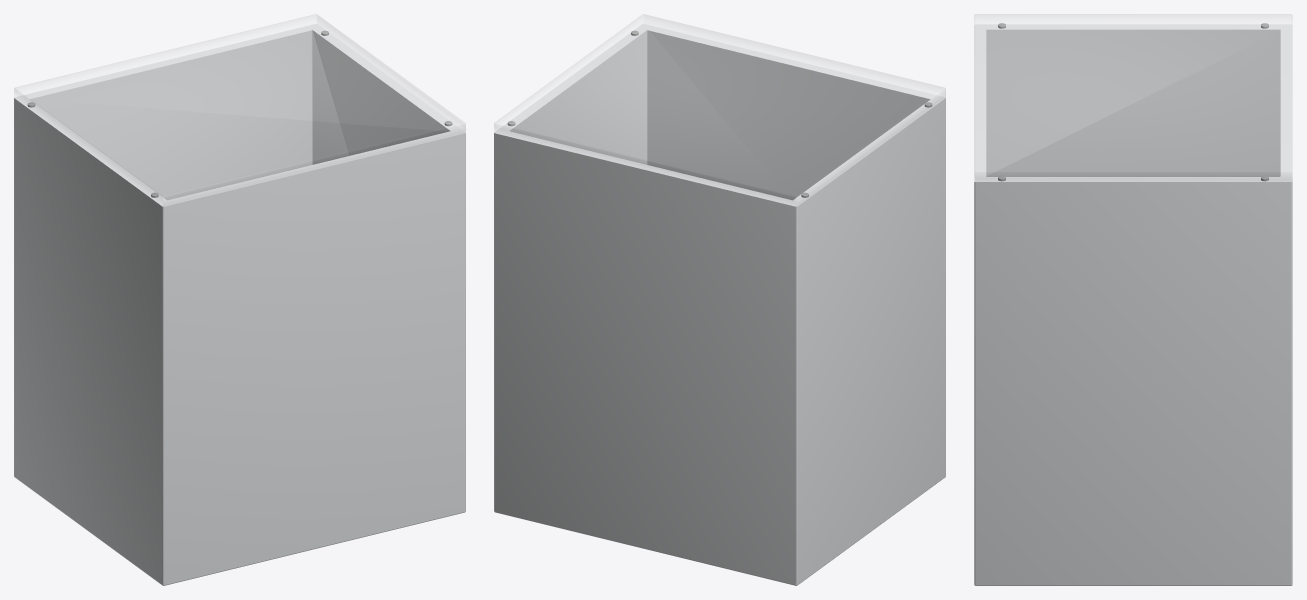
Rendered from acrylic-case-6inch.glb.
3 views of the same model, side by side, from view 1: azimuth 30°, elevation 25°; view 2: azimuth 150°, elevation 25°; view 3: azimuth 270°, elevation 25° (orthographic). The views are drawn at different scales.
Visible parts, largest first — view 1: Cube, Cube.002; view 2: Cube, Cube.002; view 3: Cube, Cube.002.
Part boxes in pixels (left/top/right/bottom): Cube: left=14, top=24, right=465, bottom=585; Cube.002: left=14, top=14, right=465, bottom=205; Cube: left=494, top=23, right=945, bottom=585; Cube.002: left=494, top=14, right=945, bottom=205; Cube: left=974, top=24, right=1292, bottom=585; Cube.002: left=974, top=14, right=1292, bottom=181.
Bounding box in the file's own units: 0.184 × 0.226 × 0.157.
4 materials, 3 textured.
